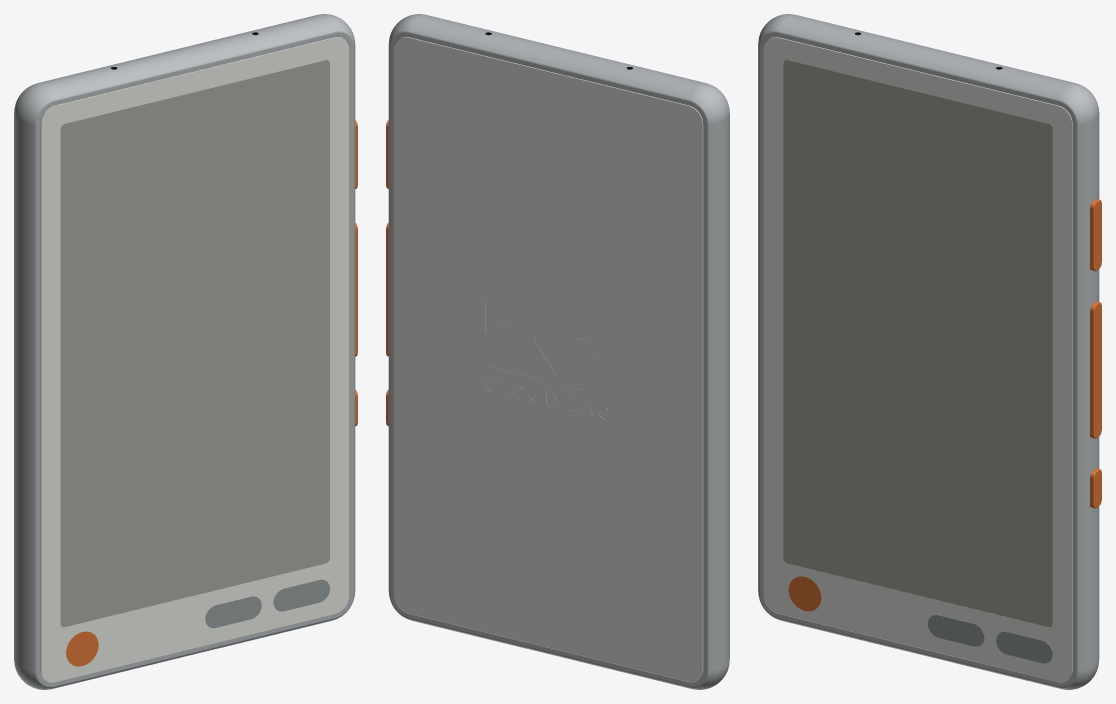
Rendered from device.glb.
3 renders of one model, left to right at view 1: azimuth 30°, elevation 25°; view 2: azimuth 150°, elevation 25°; view 3: azimuth 330°, elevation 25°, orthographic.
Parts seen in each view (by area): view 1: metalio-eink4-plus-47_10_Screen, metalio-eink4-plus-47_10_Front, metalio-eink4-plus-47_11_Case, metalio-eink4-plus-47_10_TouchCenter, metalio-eink4-plus-47_10_TouchRight, Metalio_front_round_touch; view 2: metalio-eink4-plus-47_9_Back, metalio-eink4-plus-47_11_Case; view 3: metalio-eink4-plus-47_10_Screen, metalio-eink4-plus-47_10_Front, metalio-eink4-plus-47_11_Case, metalio-eink4-plus-47_8_Buttons, metalio-eink4-plus-47_10_TouchRight, metalio-eink4-plus-47_10_TouchCenter, Metalio_front_round_touch, metalio-eink4-plus-47_0_Buttons.
Part boxes in pixels (x1=…): metalio-eink4-plus-47_10_Screen: x1=60, y1=60, x2=329, y2=627; metalio-eink4-plus-47_10_Front: x1=40, y1=37, x2=349, y2=682; metalio-eink4-plus-47_11_Case: x1=14, y1=14, x2=355, y2=689; metalio-eink4-plus-47_10_TouchCenter: x1=205, y1=596, x2=261, y2=628; metalio-eink4-plus-47_10_TouchRight: x1=273, y1=579, x2=329, y2=611; Metalio_front_round_touch: x1=66, y1=631, x2=98, y2=666; metalio-eink4-plus-47_9_Back: x1=394, y1=37, x2=703, y2=682; metalio-eink4-plus-47_11_Case: x1=388, y1=14, x2=729, y2=689; metalio-eink4-plus-47_10_Screen: x1=783, y1=60, x2=1052, y2=627; metalio-eink4-plus-47_10_Front: x1=764, y1=37, x2=1072, y2=682; metalio-eink4-plus-47_11_Case: x1=758, y1=14, x2=1099, y2=689; metalio-eink4-plus-47_8_Buttons: x1=1090, y1=301, x2=1101, y2=438; metalio-eink4-plus-47_10_TouchRight: x1=996, y1=631, x2=1052, y2=663; metalio-eink4-plus-47_10_TouchCenter: x1=928, y1=615, x2=984, y2=646; Metalio_front_round_touch: x1=788, y1=576, x2=821, y2=611; metalio-eink4-plus-47_0_Buttons: x1=1090, y1=199, x2=1101, y2=271.
Size of the model in its own units: 0.0714 by 0.1222 by 0.00783.
